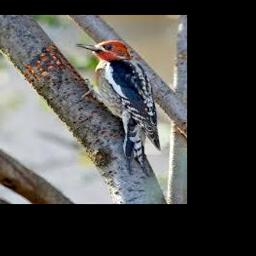Woodpecker: (76, 40, 160, 176)
